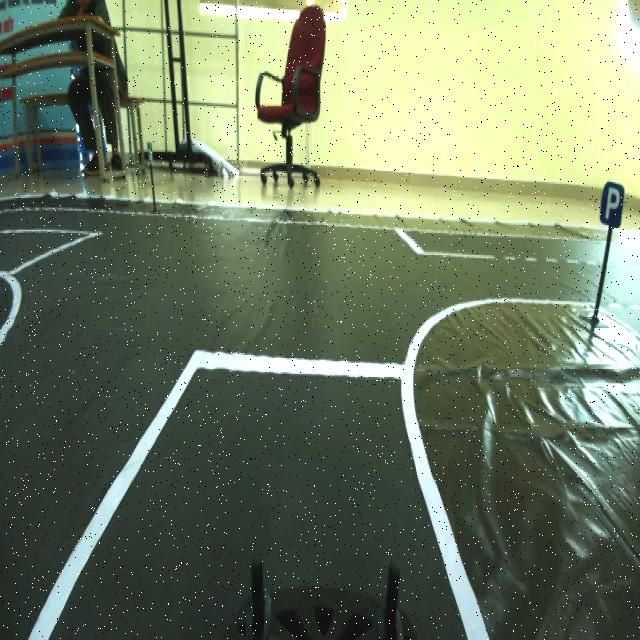parking: (596, 176, 626, 233)
